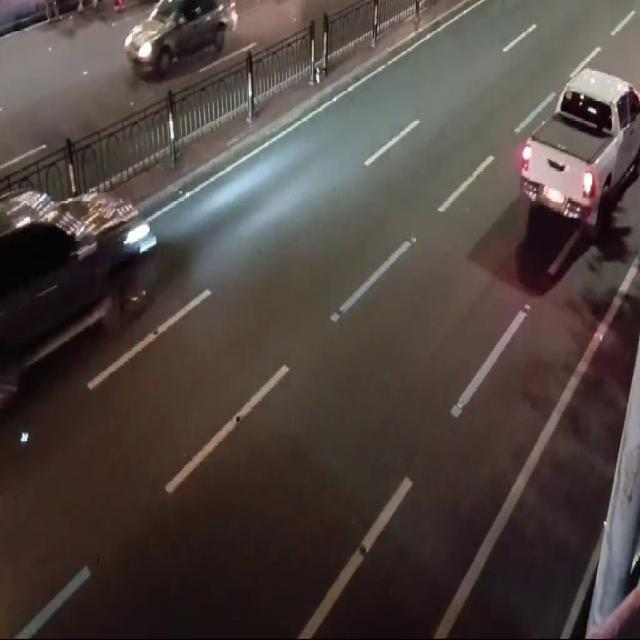car: (0, 172, 168, 407), (511, 40, 640, 239), (123, 0, 239, 84)
